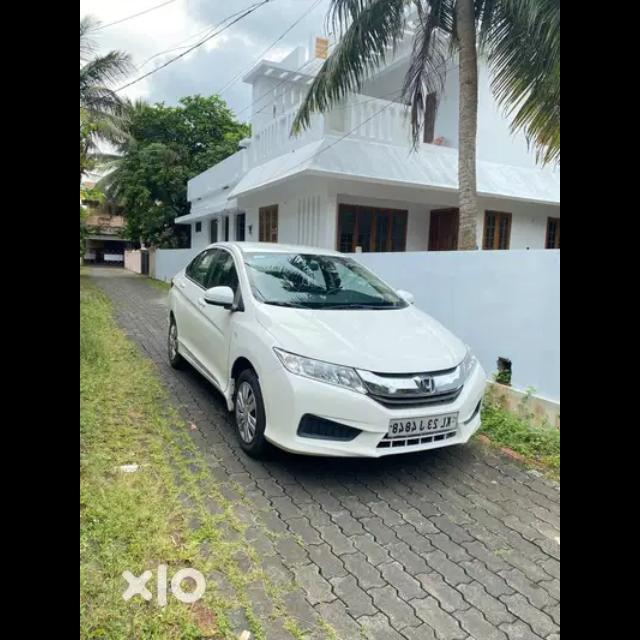vehicles: (170, 240, 486, 462)
